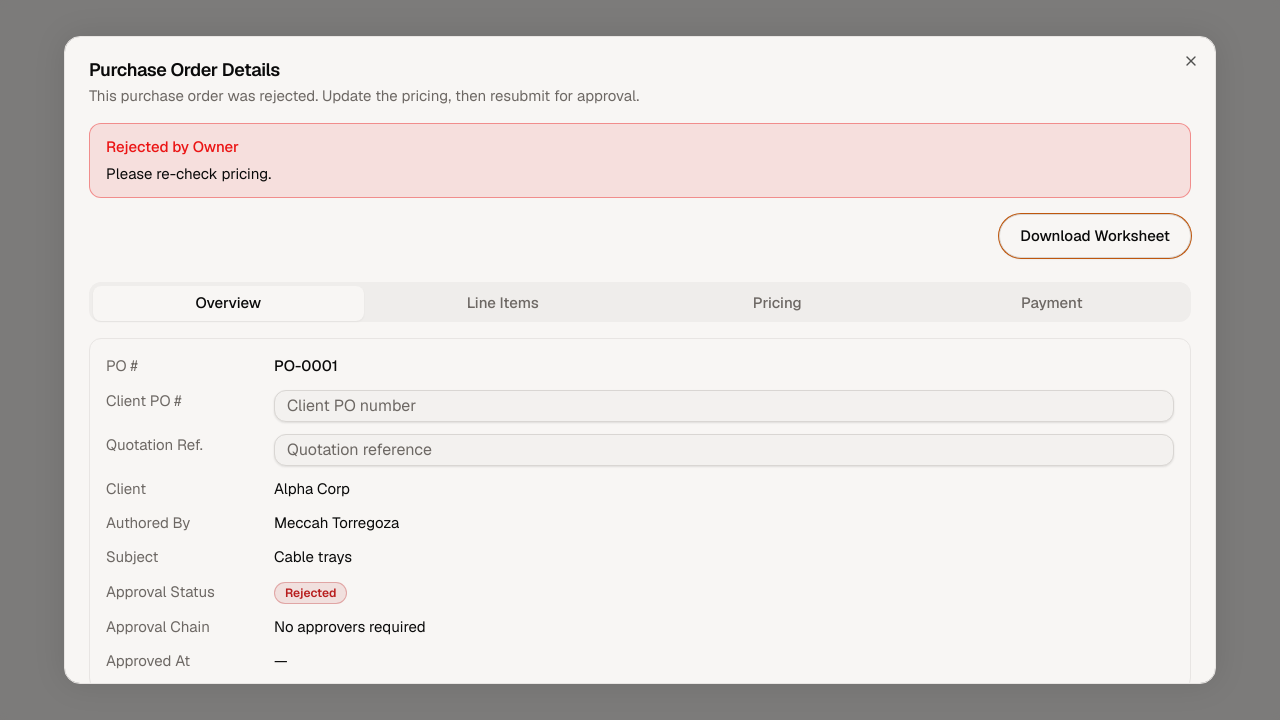
Test: PurchaseOrderDetailsDialog sales pricing defaults › keeps loading a real stored Margin % for an already-priced item instead of overwriting it with 25
This screenshot has width=1280, height=720.
# Pricing fields live in the "Pricing" tab, not rendered until selected.
Click the tab "Pricing" at [777, 303], box [642,286,912,321]
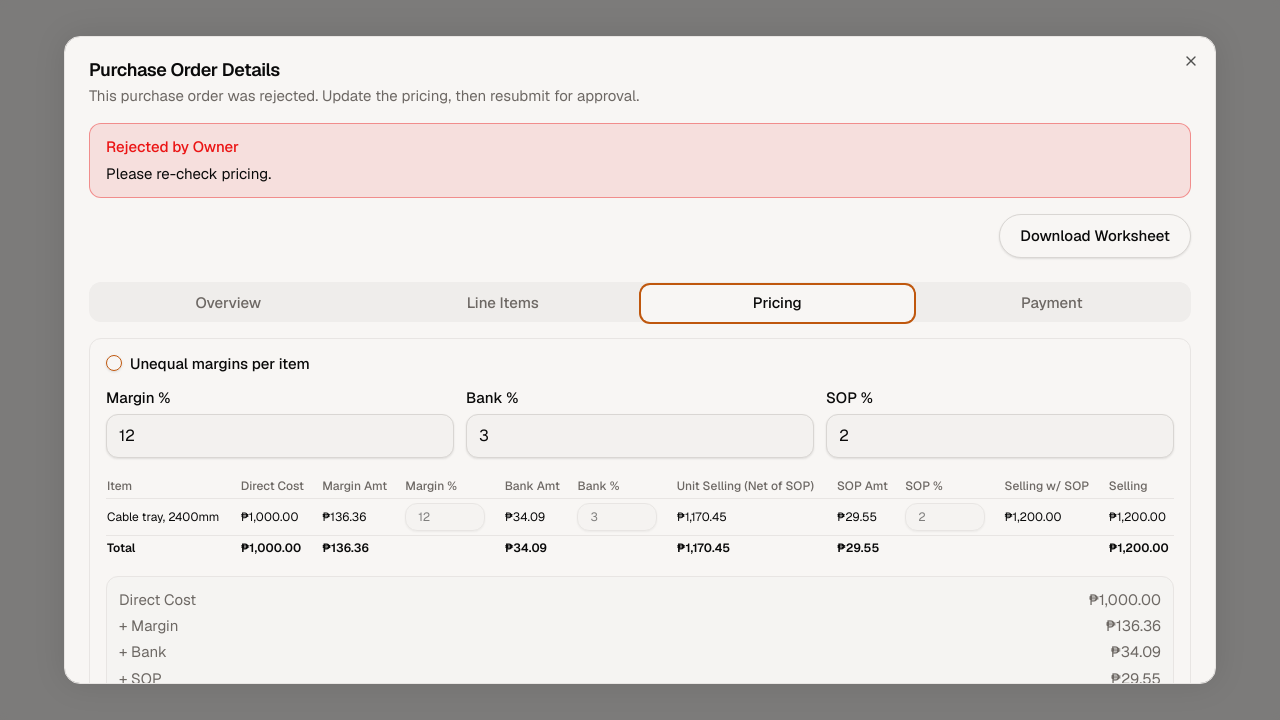
Result: the field labelled "Margin %" holds "12" at [106,414,454,458]
Result: the field labelled "Bank %" holds "3" at [466,414,814,458]
Result: the field labelled "SOP %" holds "2" at [826,414,1174,458]
